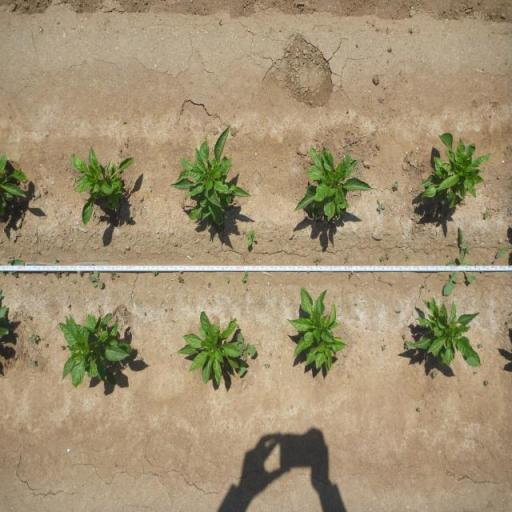plant: (164, 124, 252, 232), (292, 143, 373, 230), (55, 310, 134, 392), (416, 129, 493, 208), (286, 283, 348, 378), (68, 143, 135, 230), (410, 294, 482, 368), (176, 310, 238, 390), (0, 152, 29, 218)
weed: (442, 224, 488, 298), (235, 332, 258, 378), (244, 227, 258, 250), (89, 270, 104, 290), (374, 197, 386, 215), (54, 271, 71, 280), (416, 282, 427, 294), (109, 271, 121, 282), (403, 338, 413, 350), (28, 334, 40, 344), (313, 256, 324, 266), (482, 208, 490, 220), (241, 271, 249, 283), (429, 370, 438, 380), (392, 180, 400, 190), (476, 340, 484, 350), (177, 274, 185, 284), (29, 358, 37, 368), (347, 270, 354, 280), (24, 314, 34, 321), (483, 378, 490, 386), (263, 362, 271, 369), (53, 256, 60, 264), (395, 308, 402, 315), (388, 280, 394, 288), (344, 256, 350, 264), (76, 270, 84, 276), (404, 254, 410, 261), (60, 344, 66, 351), (41, 271, 48, 277), (381, 343, 386, 351), (206, 282, 212, 288), (152, 270, 158, 276), (226, 277, 231, 284), (416, 406, 421, 413), (386, 252, 390, 260), (402, 334, 407, 340), (71, 279, 77, 284), (43, 342, 48, 348), (13, 272, 18, 278), (380, 256, 384, 262), (378, 274, 382, 280), (140, 356, 144, 362), (354, 283, 357, 287), (354, 302, 357, 306)
